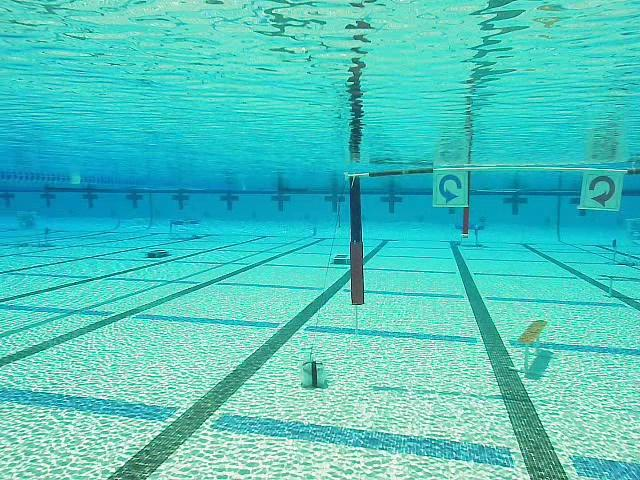dropper: (330, 251, 352, 269), (143, 247, 170, 260)
gate_blue: (433, 170, 468, 207)
gate_leg_l: (350, 174, 364, 305)
gate_red: (580, 172, 623, 210)
table: (166, 214, 201, 241)
torpedo: (16, 208, 40, 235)
